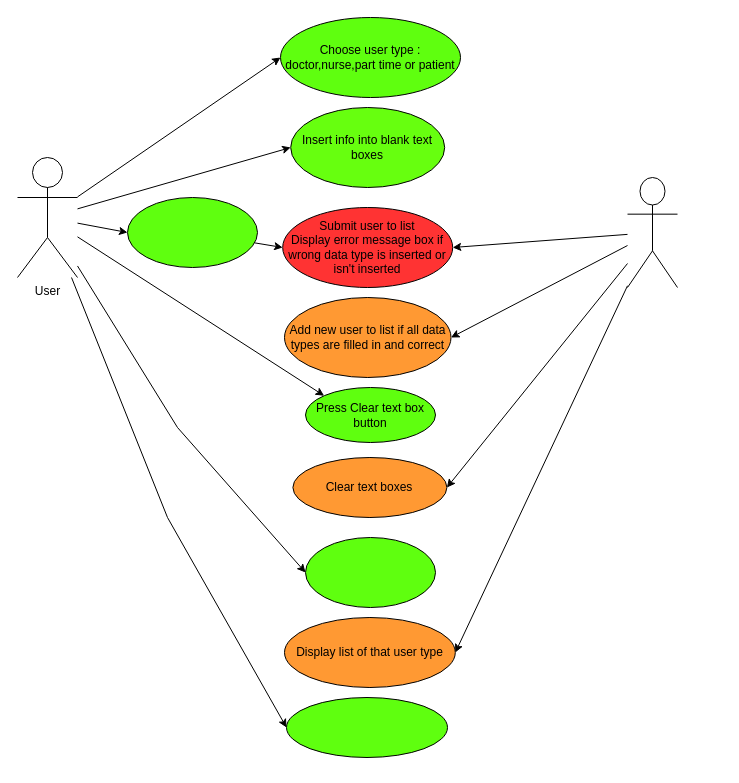
The diagram is 739 pixels wide and 783 high, and some of its shapes have lost their labels. Each missing label, with the centre of its shape:
Add another user or Exit: point (367, 727)
Choose user type list to view: point (370, 572)
Hospital Management System: point (652, 232)
Press "Add User to List" button: point (192, 232)
